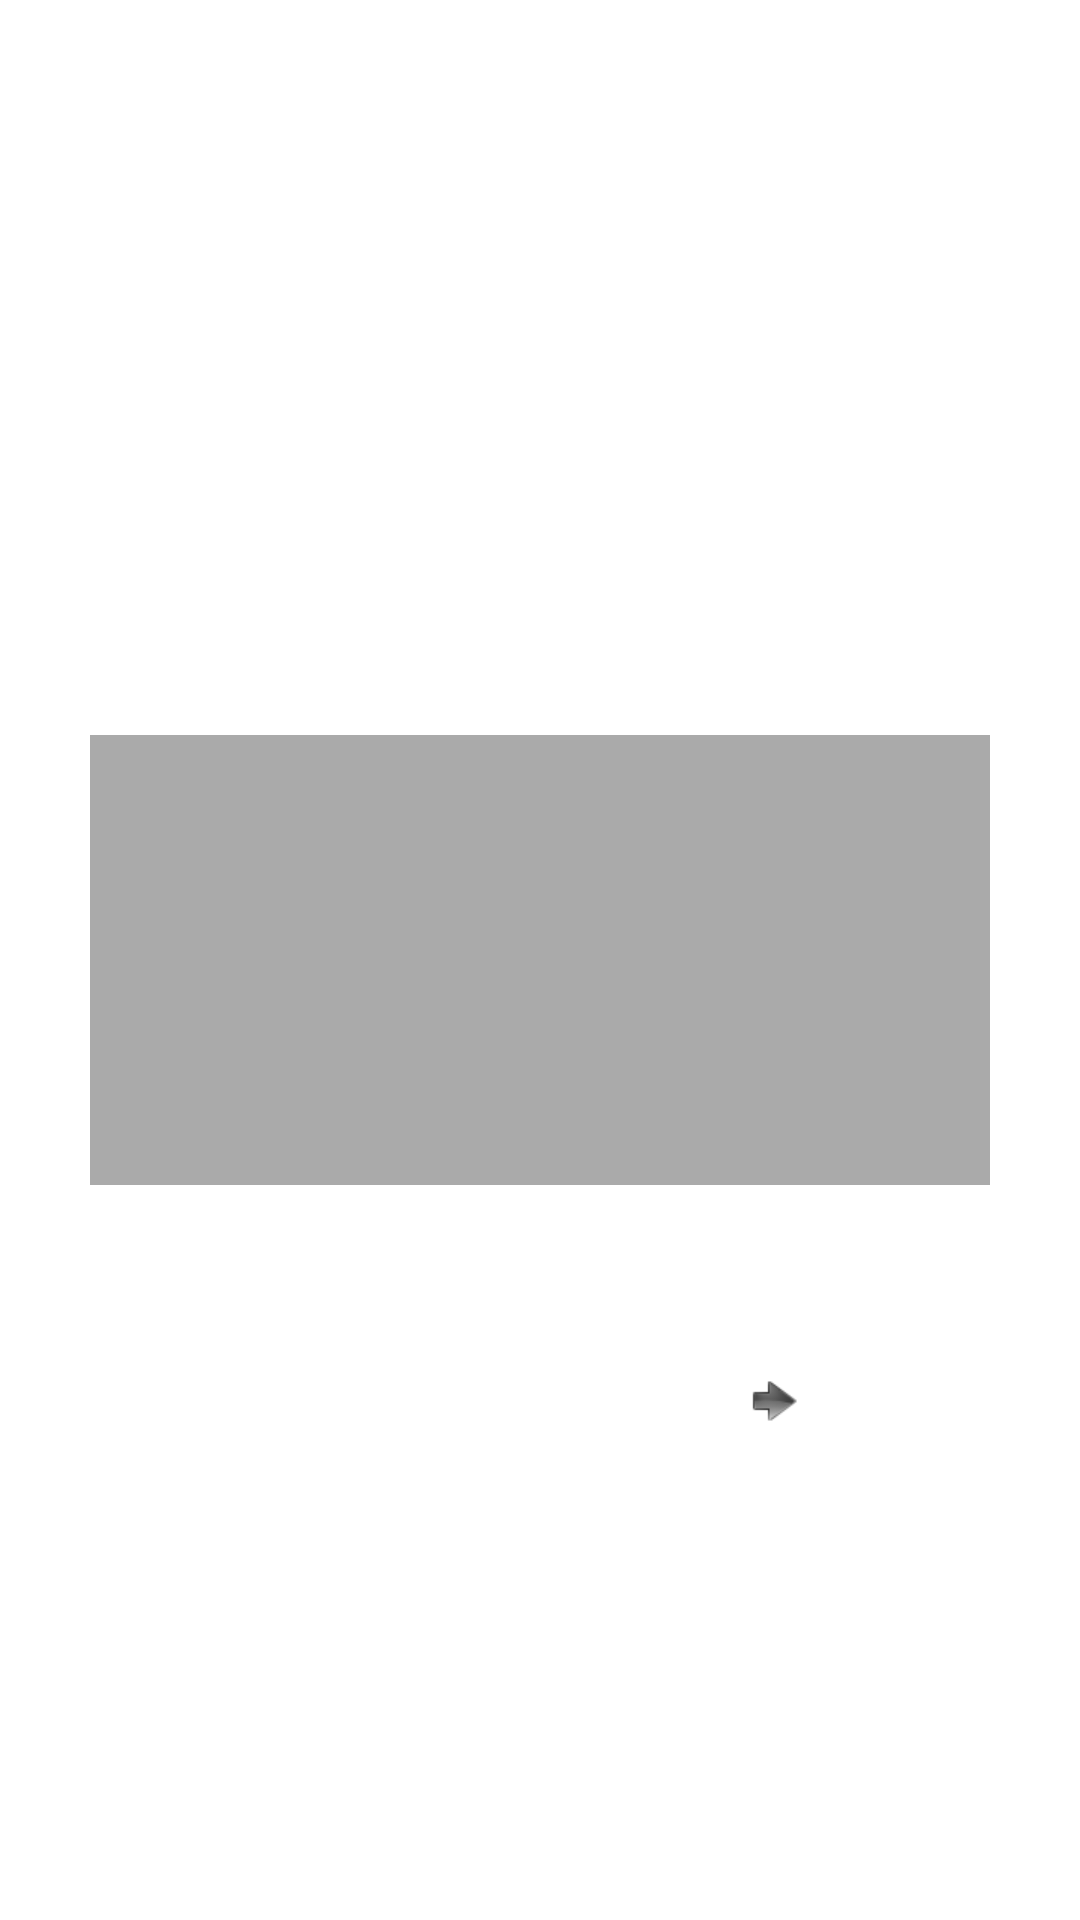

Named icons in this screenshot (1080*1920) and their centers, point (x, y):
Next: point (774, 1401)
